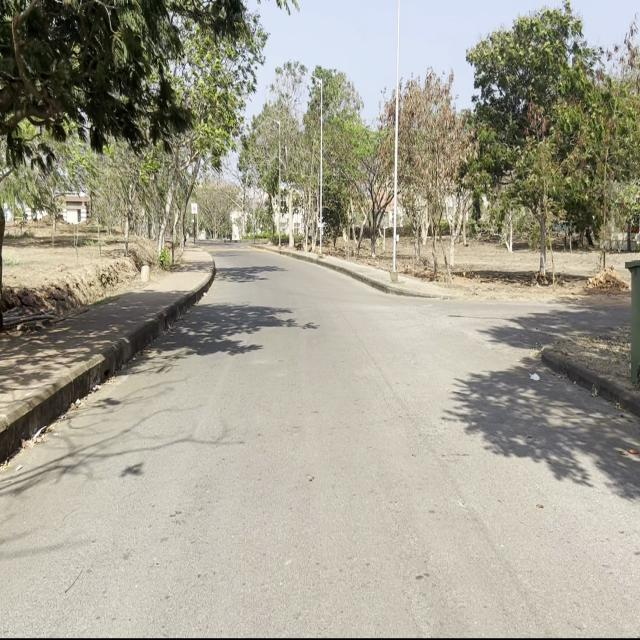Road: (4, 242, 637, 631)
